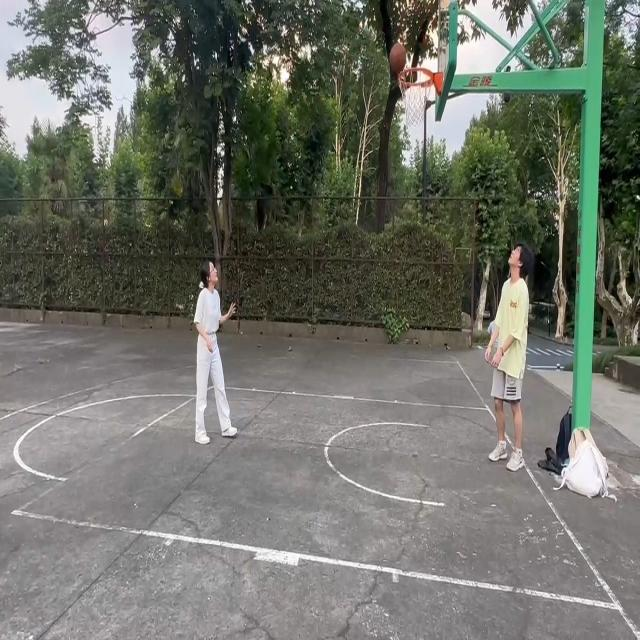basketball: (400, 67, 440, 128)
rim: (389, 41, 408, 75)
